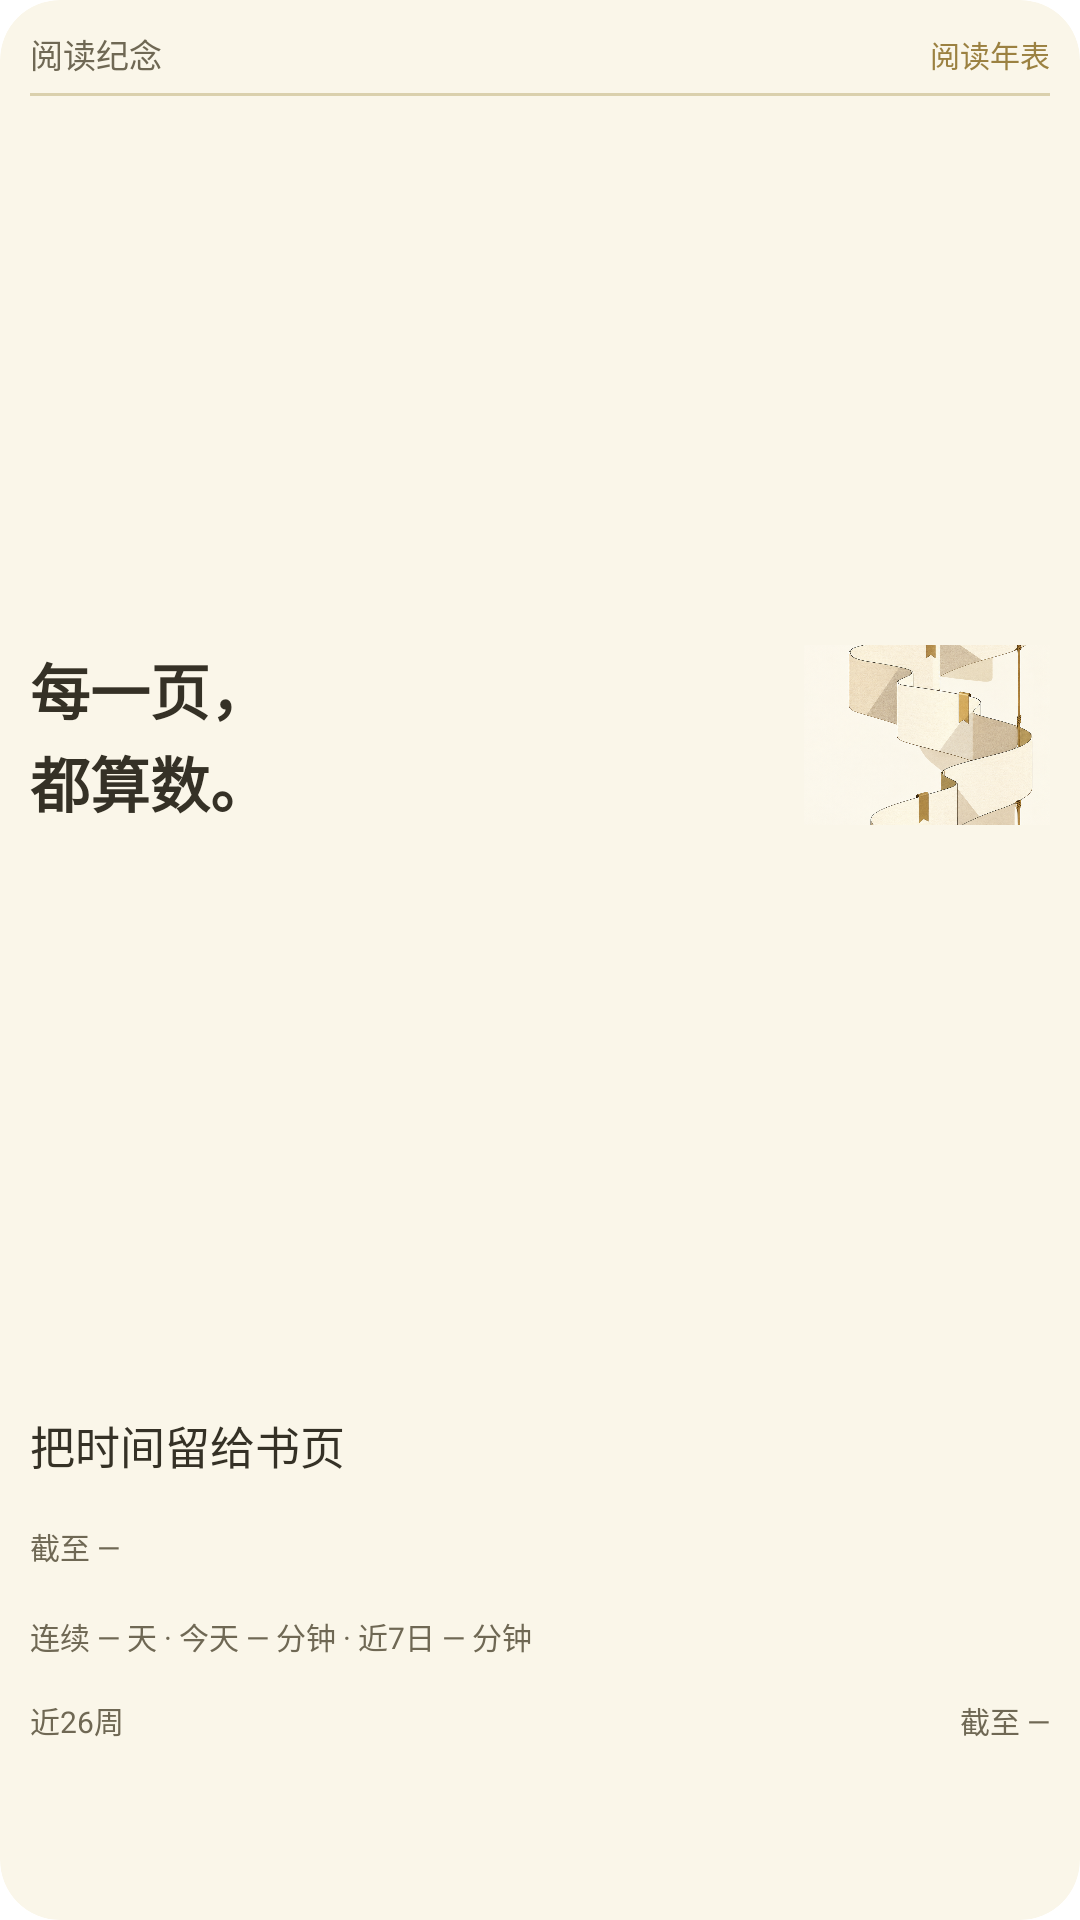

Named icons in this screenshot (1080w x 1920h) and their bounding boxes, (x1,y1,x2,y2):
reading widget art editorial: (849,645,1032,825)
